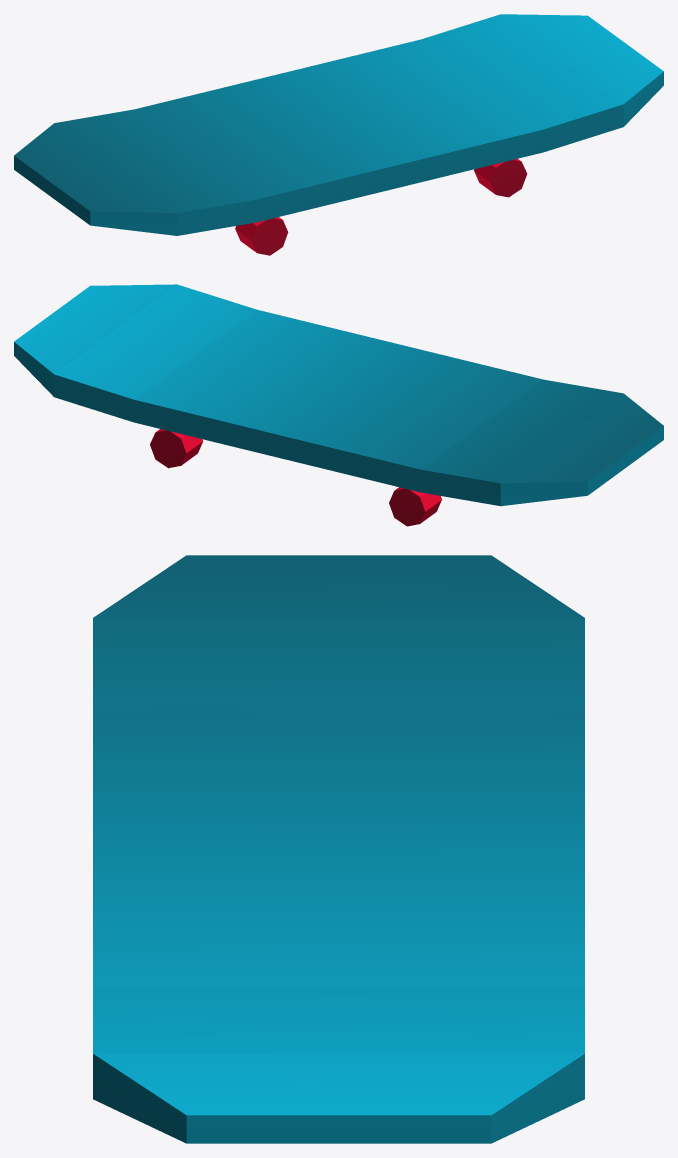
Rendered from Low_Poly_Skateboard_Shadeless.glb.
3 views of the same model, one above another, from view 1: azimuth 30°, elevation 25°; view 2: azimuth 150°, elevation 25°; view 3: azimuth 270°, elevation 25° (orthographic). The views are drawn at different scales.
Parts seen in each view (by area): view 1: Cube_Texture_0; view 2: Cube_Texture_0; view 3: Cube_Texture_0.
Boxes of the visible parts, x1=… form: Cube_Texture_0: x1=14, y1=14, x2=663, y2=255; Cube_Texture_0: x1=14, y1=284, x2=663, y2=526; Cube_Texture_0: x1=93, y1=555, x2=584, y2=1143.
Bounding box in the file's own units: 200 × 25.23 × 74.25.
Materials: 1 (1 with a texture image).
